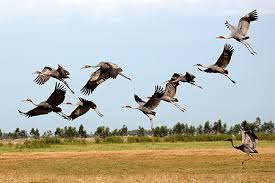seu_dau_do: (216, 10, 262, 55), (16, 83, 70, 121), (121, 85, 163, 129), (192, 43, 237, 84), (79, 61, 131, 95), (223, 120, 258, 163), (31, 63, 75, 90), (62, 95, 105, 119), (161, 69, 203, 89)
